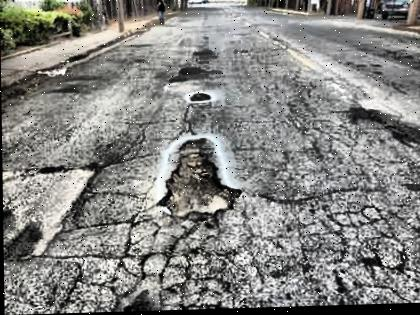pothole: (152, 135, 242, 225), (184, 91, 215, 106)
